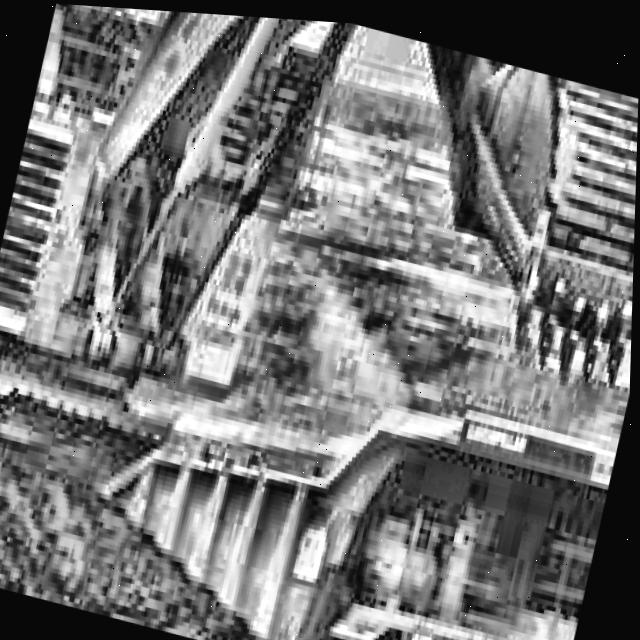dump_truck: (89, 297, 627, 640)
excavator: (0, 0, 640, 640)
